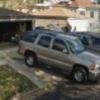cars: (17, 28, 100, 84)
